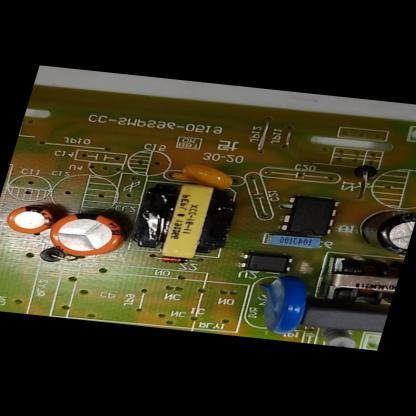Cap1: (43, 208, 130, 260)
Cap2: (1, 204, 57, 235)
Cap3: (350, 209, 416, 256)
MOSFET: (277, 194, 342, 236)
Mov: (248, 277, 312, 336)
Resistor: (318, 328, 360, 348)
Transformer: (124, 180, 240, 263), (318, 254, 403, 307)
